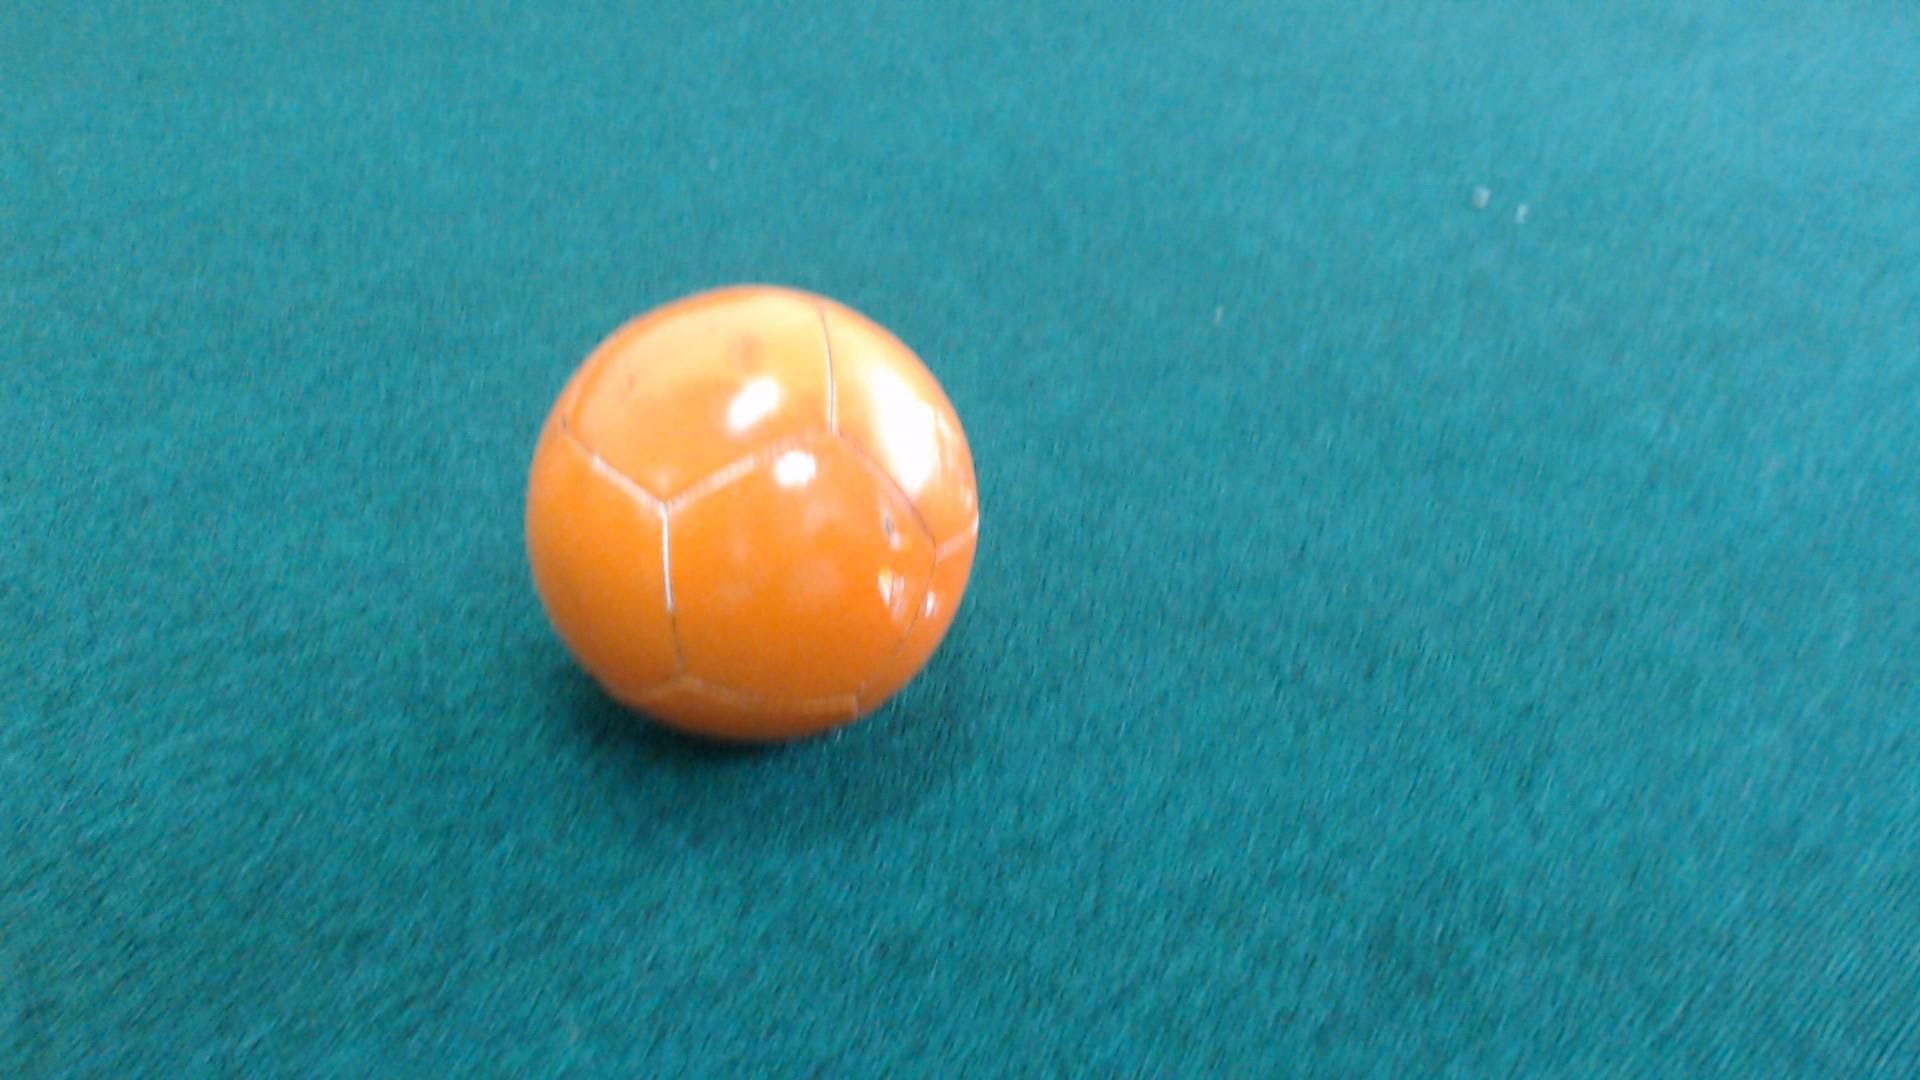bola: (514, 256, 1001, 770)
